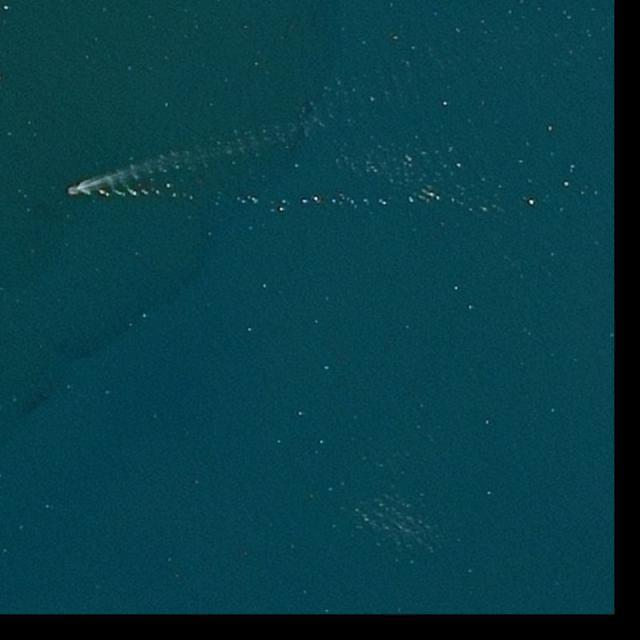ship: (67, 187, 81, 194)
